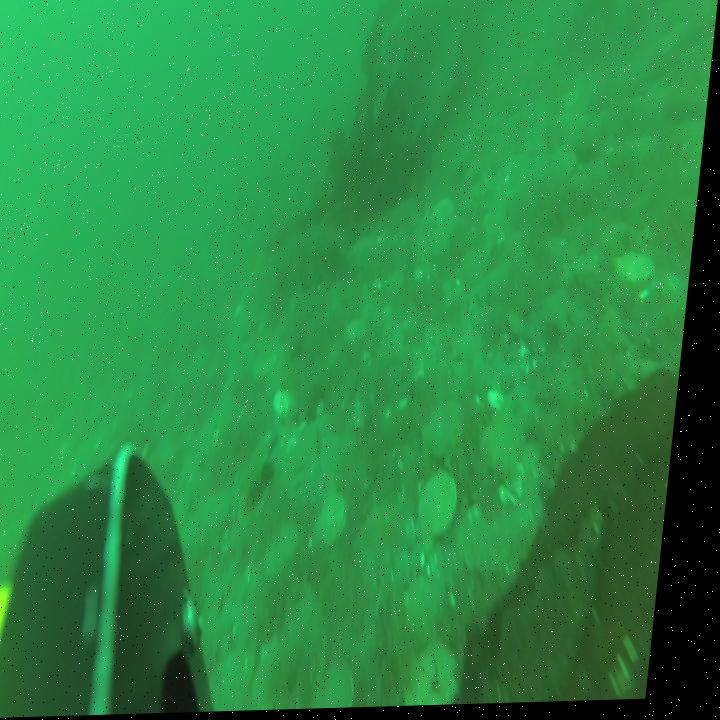scallop: (422, 650, 475, 709), (427, 472, 471, 539), (431, 403, 473, 462), (491, 414, 530, 474), (325, 664, 369, 711), (275, 527, 312, 581), (324, 496, 361, 550), (419, 577, 456, 631), (477, 524, 513, 579), (621, 249, 665, 290), (423, 227, 454, 267), (553, 151, 583, 186), (349, 318, 377, 349)
